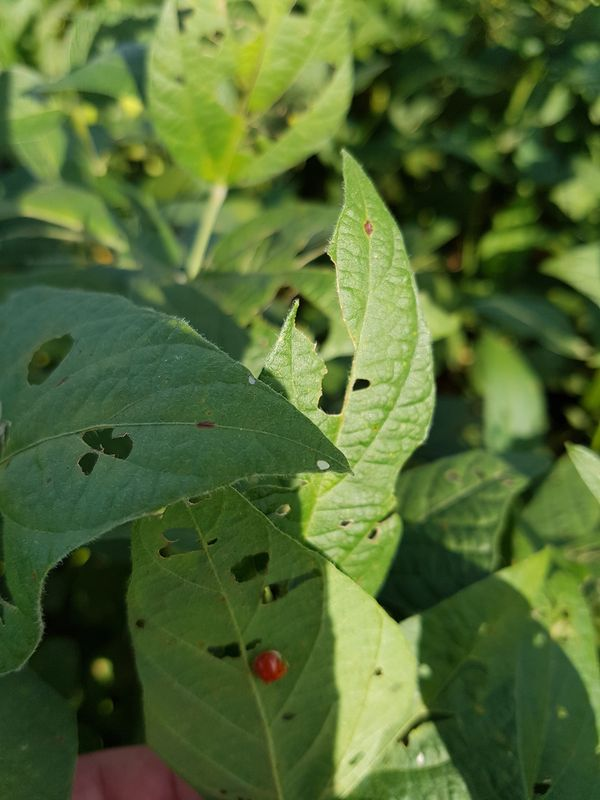Coccinellidae: (240, 639, 295, 691)
